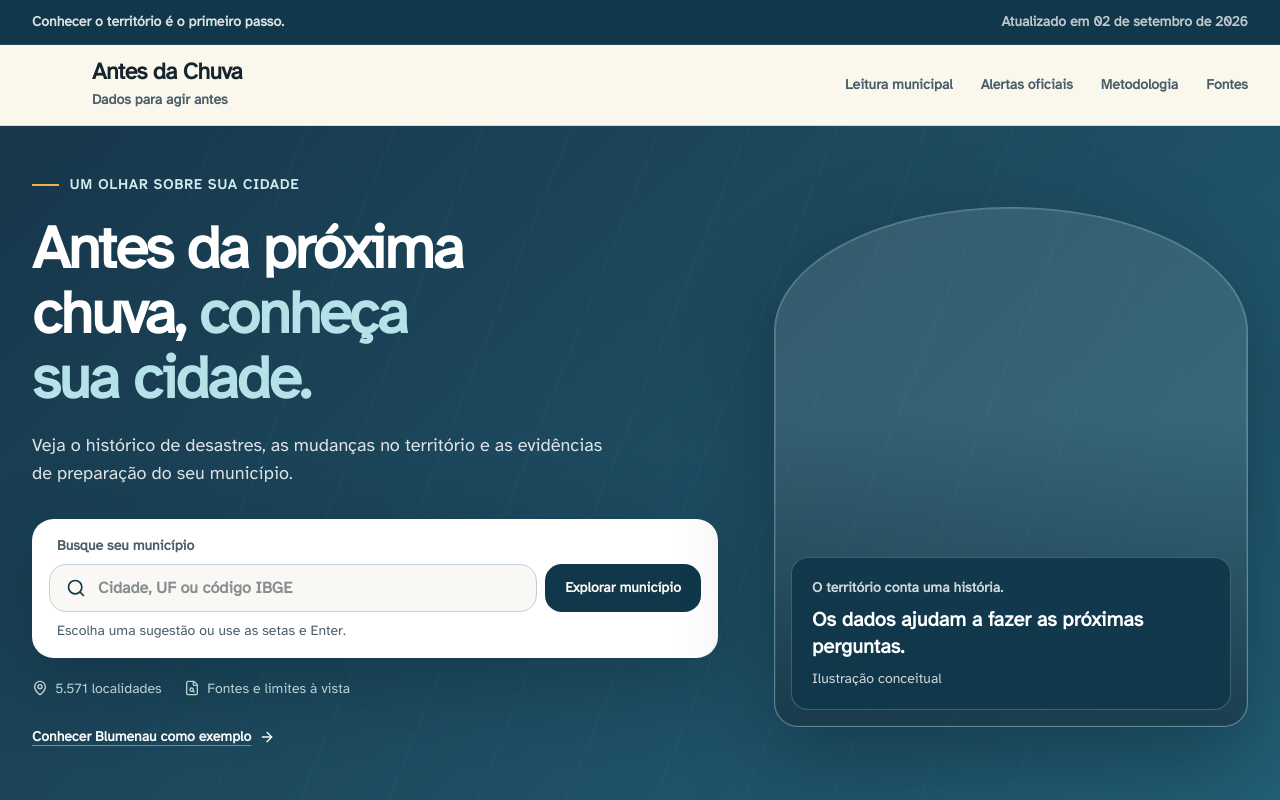
Scenario: municipal v1 loading › treats a complete UF as a state filter instead of a substring of city names
In the dropdown named "Busque por nome, UF ou código IBGE": coordinates (309, 588) [98,576,520,600], type "sc"
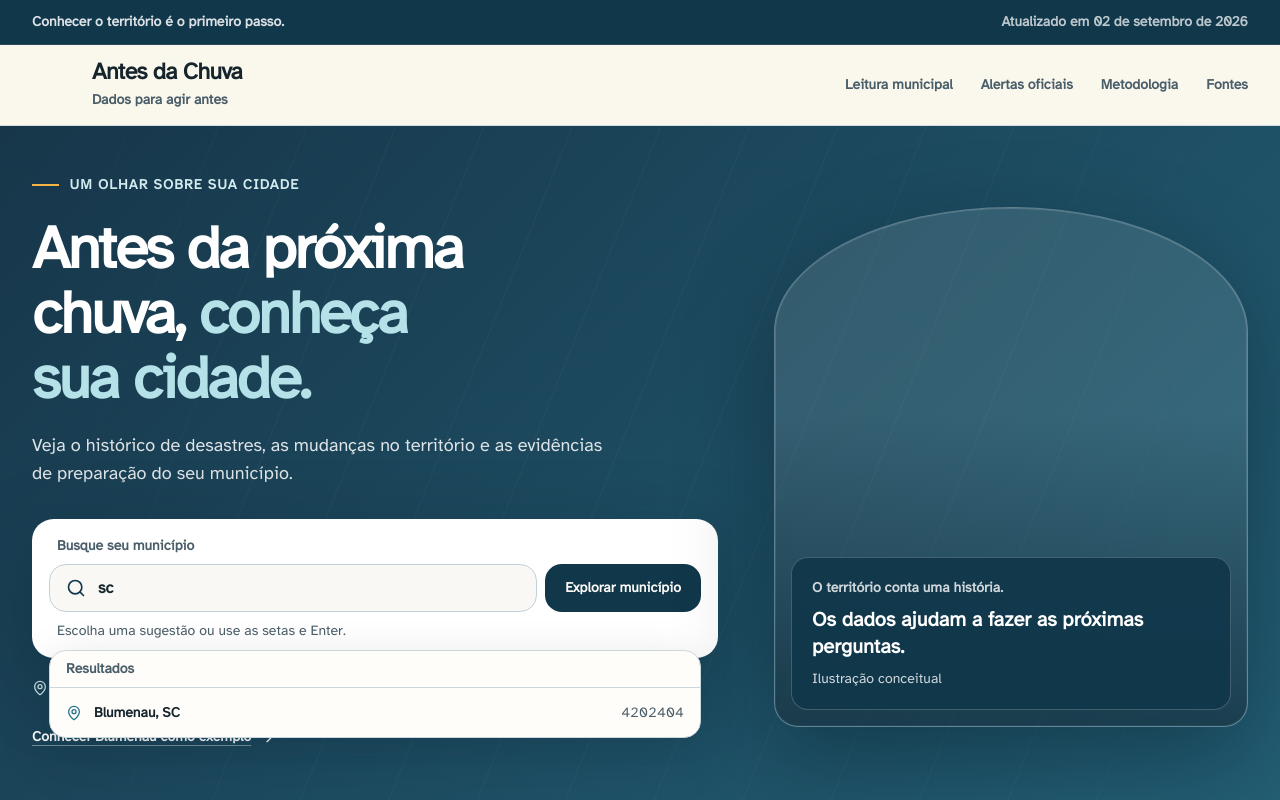
Now the number of options is 1, box [54,692,696,733]
